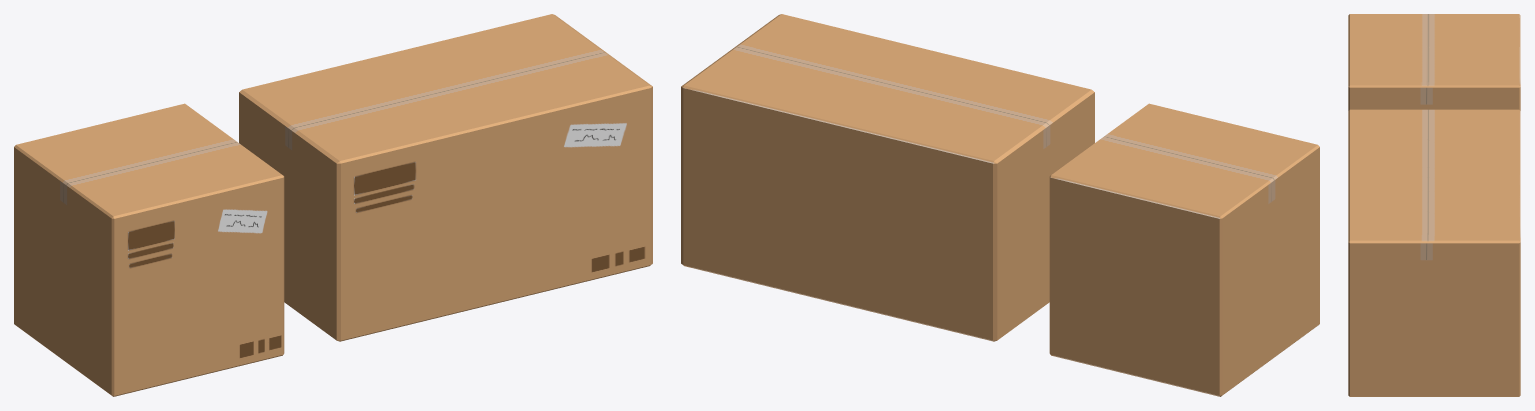
The model's file is Packages.fbx.
The picture shows the model from 3 angles, left to right: view 1: azimuth 30°, elevation 25°; view 2: azimuth 150°, elevation 25°; view 3: azimuth 270°, elevation 25°; orthographic projection. The views are drawn at different scales.
Visible parts, largest first — view 1: Cube.001, Cube; view 2: Cube.001, Cube; view 3: Cube.001, Cube.
Boxes of the visible parts, x1,y1,x2,y2 form: Cube.001: [239, 14, 652, 341]; Cube: [14, 103, 284, 396]; Cube.001: [681, 14, 1094, 341]; Cube: [1049, 103, 1319, 396]; Cube.001: [1348, 109, 1520, 396]; Cube: [1348, 14, 1520, 110].
Size of the model in its own units: 627 by 200 by 200.
